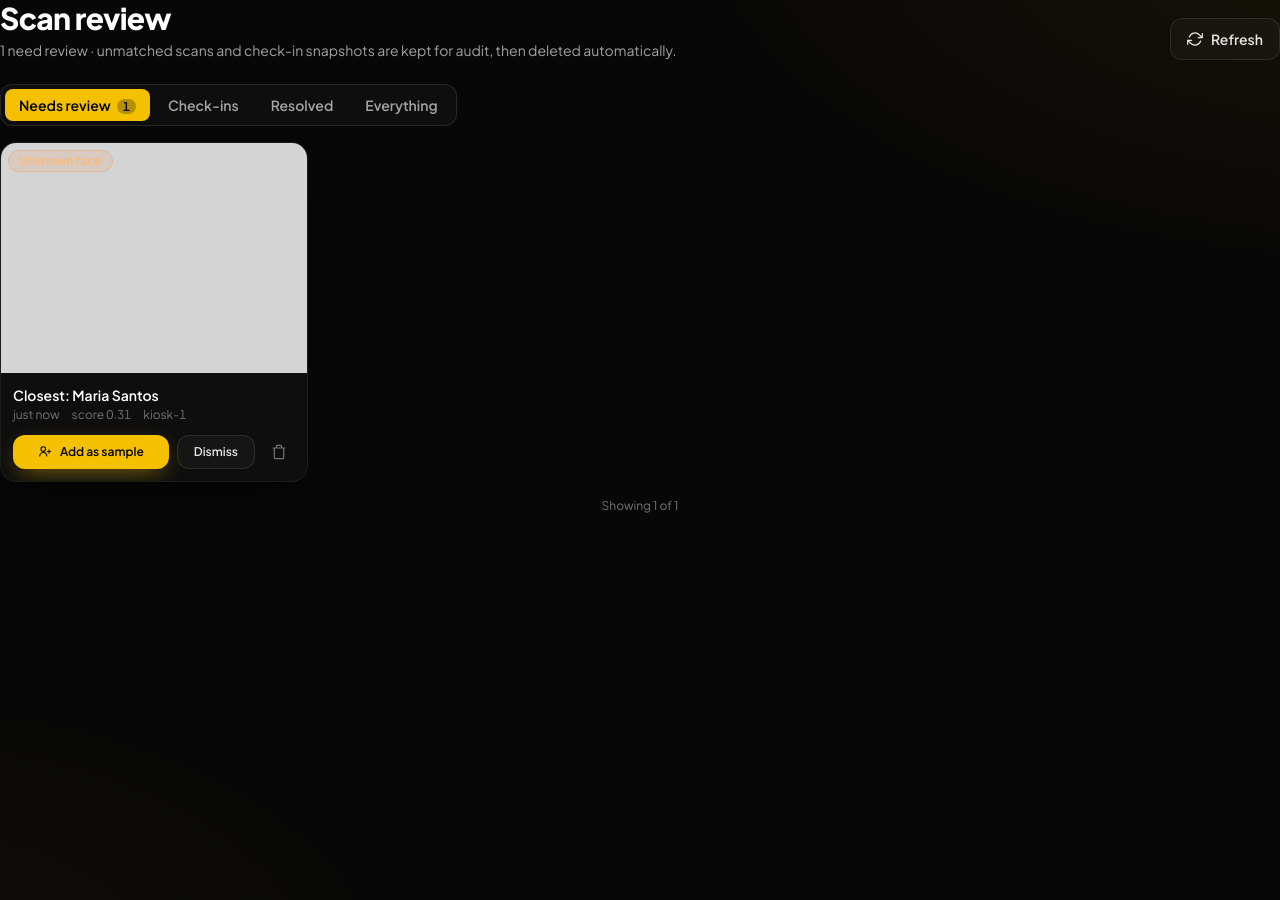
Test: Review page › explains when the server refuses a frame (409) instead of a generic error
Click the button "Add as sample".
click(91, 452)  # box [13,434,169,468]
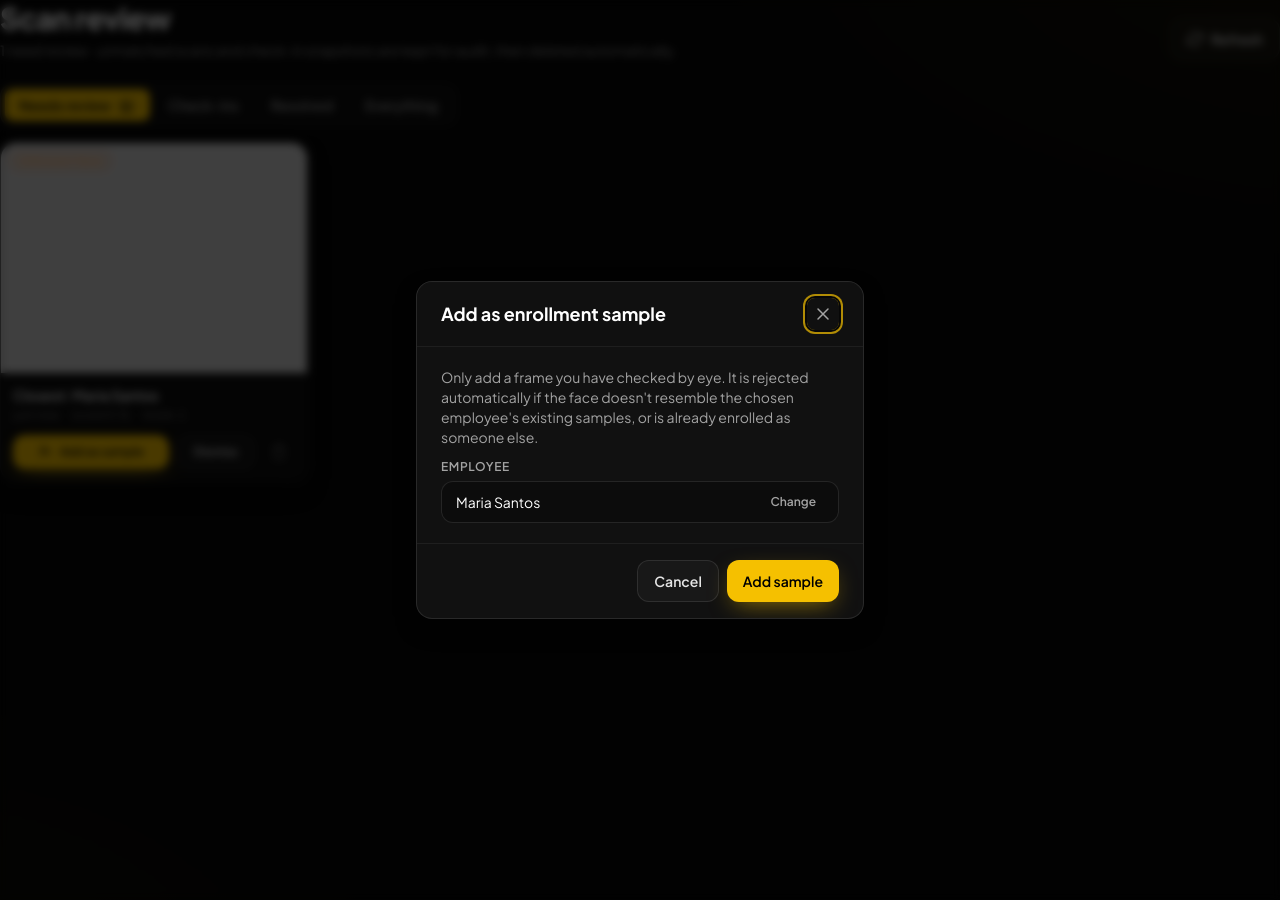
Click the button "Add sample".
click(783, 581)  # box [727,560,839,602]
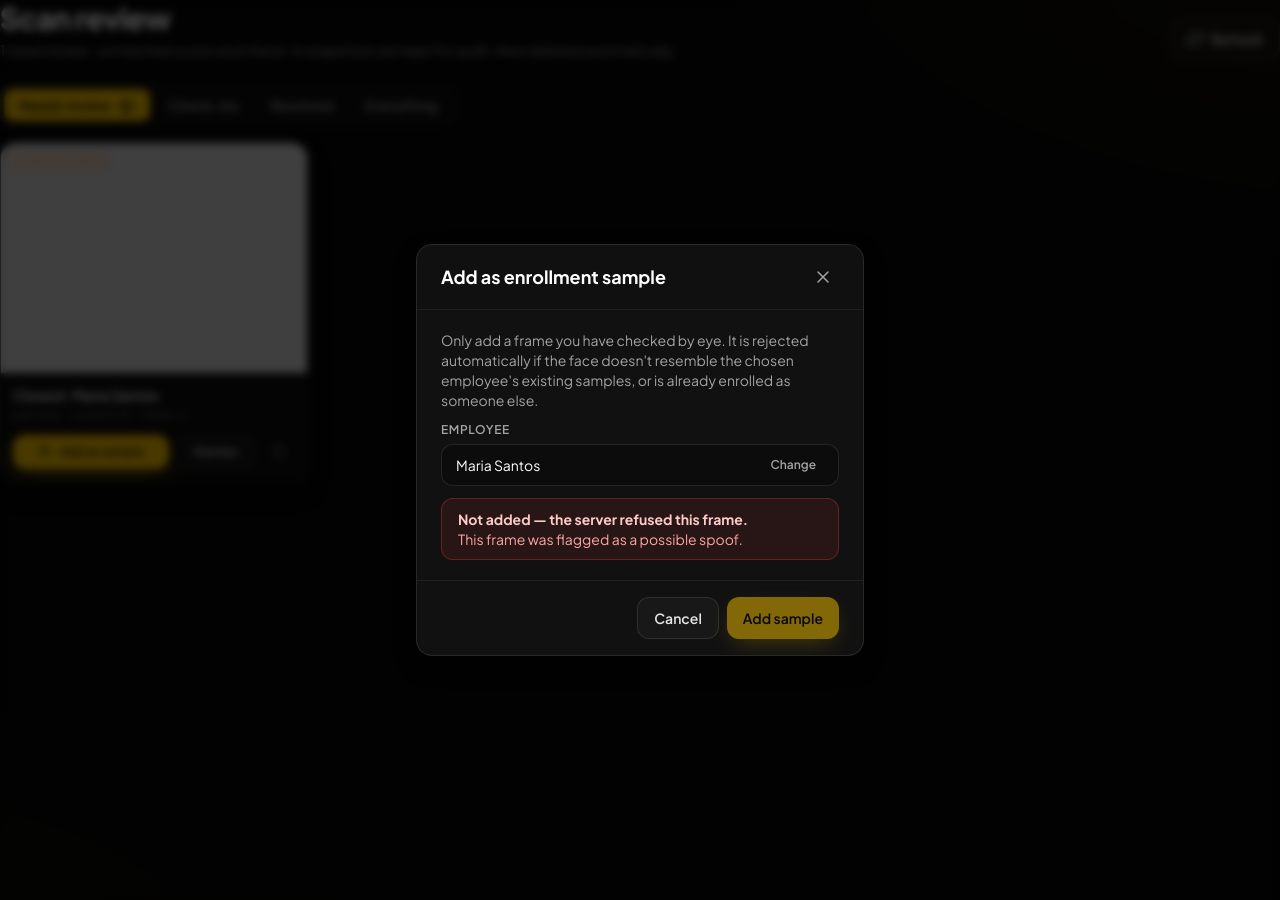
Expected: the text "Not added — the server refused this frame." is shown, [458,510,748,528]
Expected: the text "This frame was flagged as a possible spoof." is shown, [458,530,743,548]
Expected: the button "Add sample" is disabled, [727,597,839,639]
